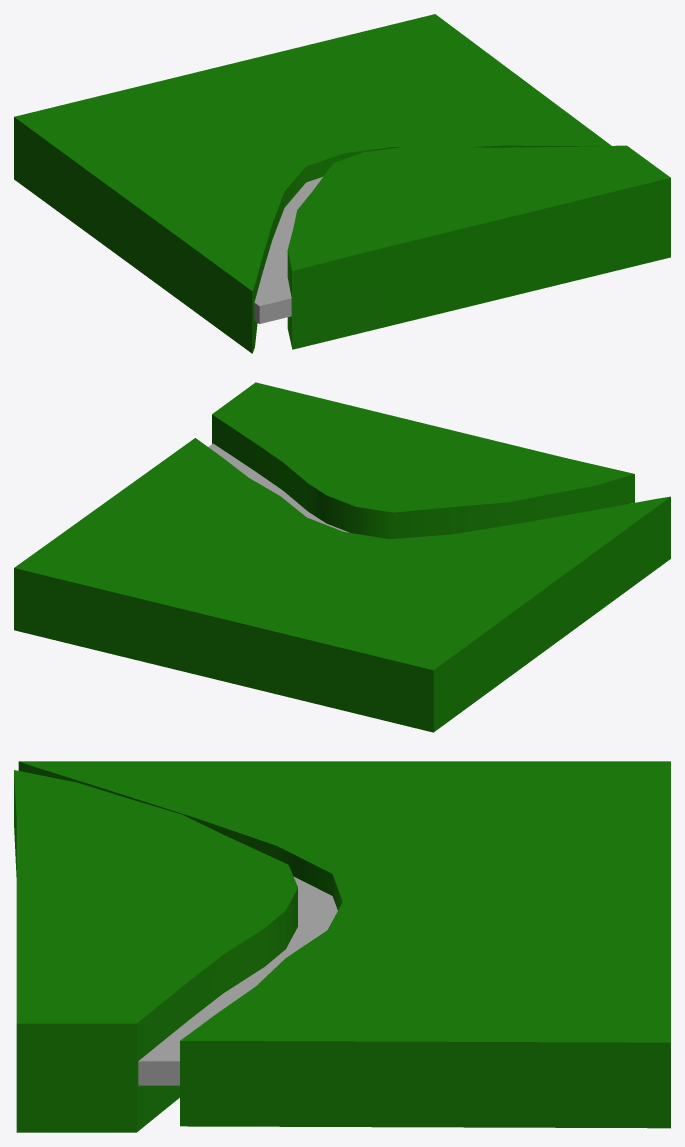
Rendered from terreno1.fbx.
3 renders of one model, top to bottom at view 1: azimuth 30°, elevation 25°; view 2: azimuth 150°, elevation 25°; view 3: azimuth 270°, elevation 25°, orthographic. The views are drawn at different scales.
Parts seen in each view (by area): view 1: pCube2, pCube1, rio; view 2: pCube2, pCube1, rio; view 3: pCube2, pCube1, rio.
Boxes of the visible parts, x1,y1,x2,y2 form: pCube2: [14, 14, 611, 353]; pCube1: [287, 145, 670, 349]; rio: [254, 177, 322, 323]; pCube2: [14, 438, 670, 732]; pCube1: [212, 382, 634, 539]; rio: [208, 443, 632, 532]; pCube2: [18, 761, 670, 1128]; pCube1: [14, 770, 297, 1132]; rio: [138, 877, 337, 1085].
Bounding box in the file's own units: 24.58 × 4.44 × 24.26.
